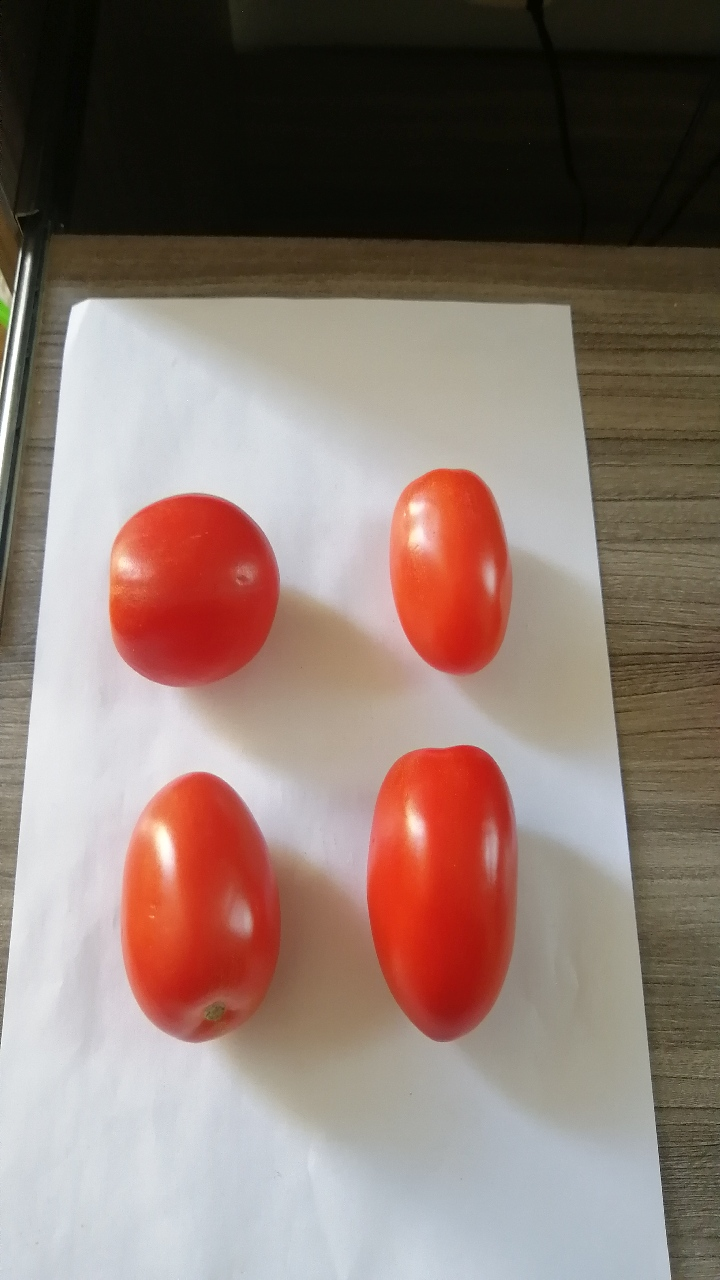tomateRojo: (349, 726, 532, 1062), (109, 757, 292, 1062), (81, 477, 308, 712), (371, 449, 534, 712)
